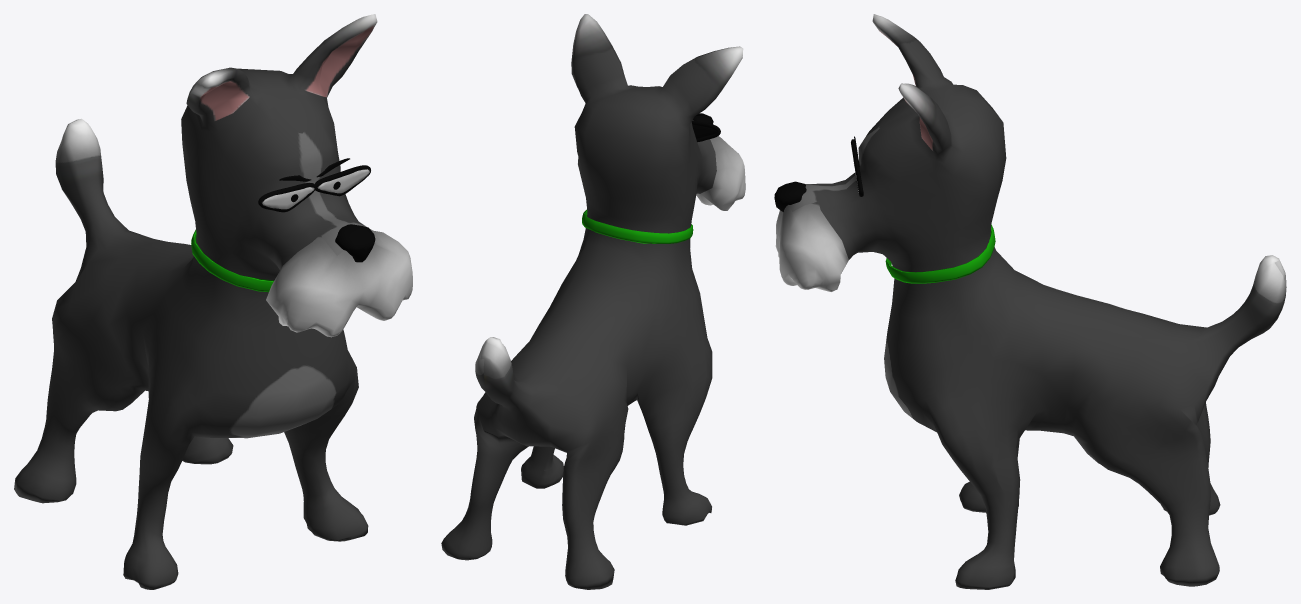
File: Rufus.glb
The picture shows the model from 3 angles, left to right: view 1: azimuth 30°, elevation 25°; view 2: azimuth 150°, elevation 25°; view 3: azimuth 270°, elevation 25°; orthographic projection. The views are drawn at different scales.
Parts seen in each view (by area): view 1: polySurface2, Eyes; view 2: polySurface2, Eyes; view 3: polySurface2.
Boxes of the visible parts, x1,y1,x2,y2 form: polySurface2: (14,14,412,589); Eyes: (258,165,370,212); polySurface2: (441,14,745,589); Eyes: (691,120,720,142); polySurface2: (774,14,1286,589).
Bounding box in the file's own units: 0.2687 × 0.6136 × 0.5723.
2 materials, 2 textured.
